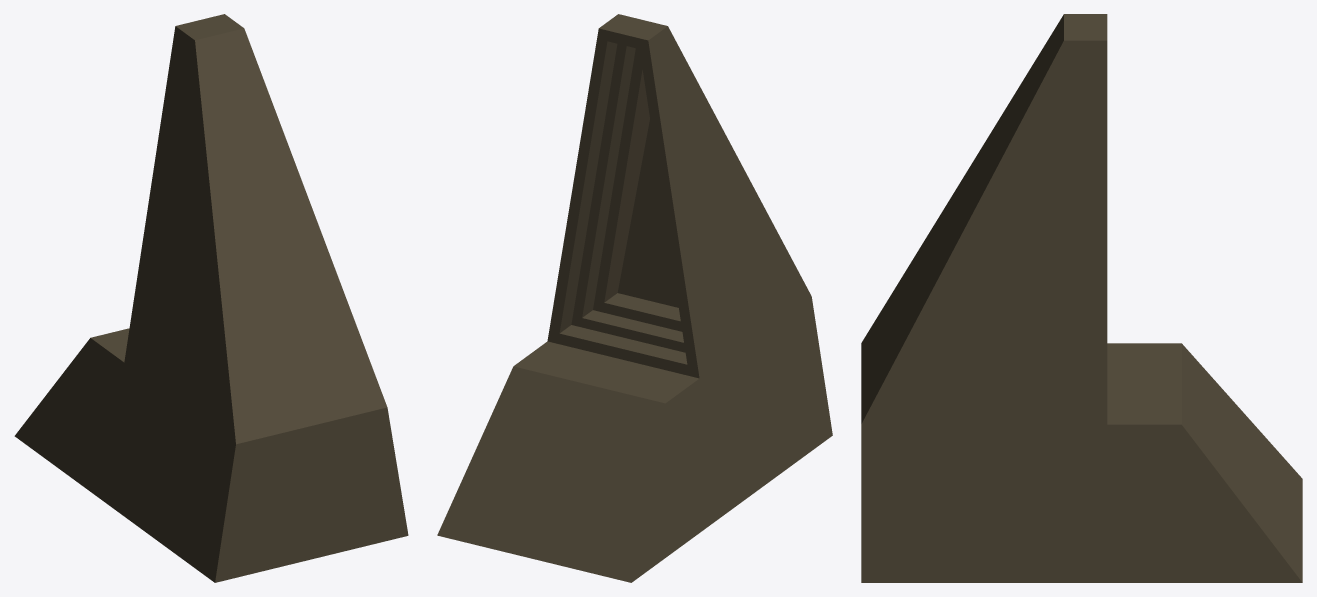
3 views of the same model, side by side, from view 1: azimuth 30°, elevation 25°; view 2: azimuth 150°, elevation 25°; view 3: azimuth 270°, elevation 25° (orthographic). The views are drawn at different scales.
Parts seen in each view (by area): view 1: Cube; view 2: Cube; view 3: Cube.
Part boxes in pixels (box(x1,y1,x2,y2)): Cube: box(14, 14, 408, 582); Cube: box(437, 14, 832, 582); Cube: box(861, 14, 1302, 582).
Bounding box in the file's own units: 400 × 904 × 718.
